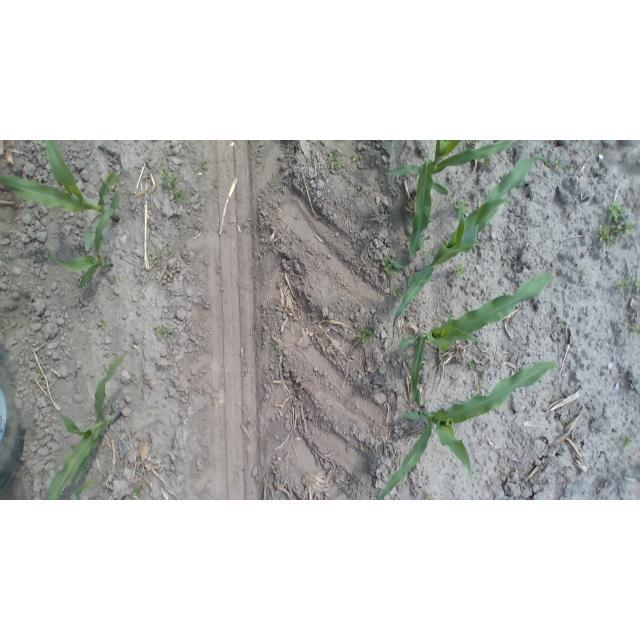Maize: (386, 152, 550, 345), (375, 350, 566, 500), (392, 268, 557, 412), (383, 145, 539, 268), (43, 346, 134, 500), (0, 140, 120, 247), (389, 140, 526, 208), (47, 191, 124, 293), (74, 474, 111, 500)
Weeds: (597, 203, 636, 248), (159, 169, 183, 190), (453, 196, 471, 216), (325, 150, 343, 170), (154, 324, 175, 341), (451, 262, 469, 281), (380, 255, 397, 275), (357, 326, 374, 345), (172, 187, 189, 205), (130, 483, 146, 500), (268, 340, 280, 360), (150, 248, 164, 265), (620, 433, 634, 449), (617, 276, 631, 291), (351, 151, 365, 166), (478, 156, 492, 168), (553, 159, 565, 173), (393, 286, 404, 300), (424, 247, 436, 259), (37, 371, 48, 384), (629, 322, 639, 336), (96, 319, 109, 329), (242, 218, 253, 229), (423, 491, 438, 499), (557, 317, 567, 329), (108, 273, 119, 283), (359, 444, 369, 455), (409, 266, 419, 277), (632, 276, 639, 290), (421, 236, 431, 245), (476, 383, 484, 393), (203, 164, 212, 172), (469, 361, 476, 371), (579, 268, 587, 275), (375, 175, 380, 180)
